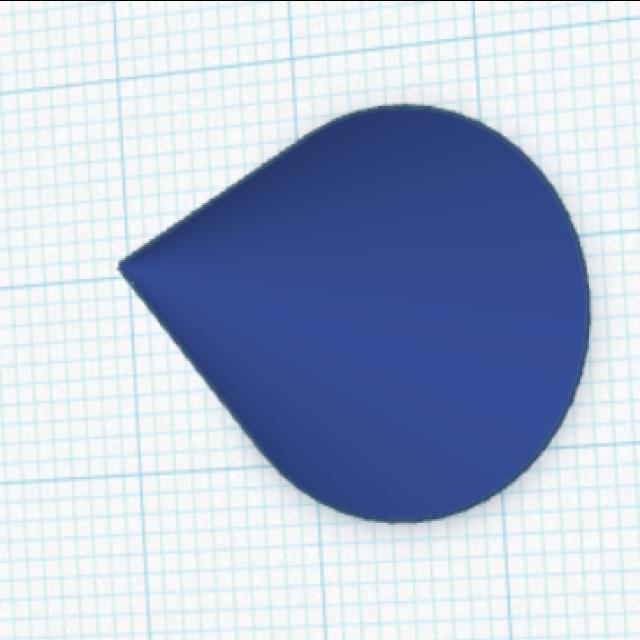cone: (113, 98, 596, 531)
